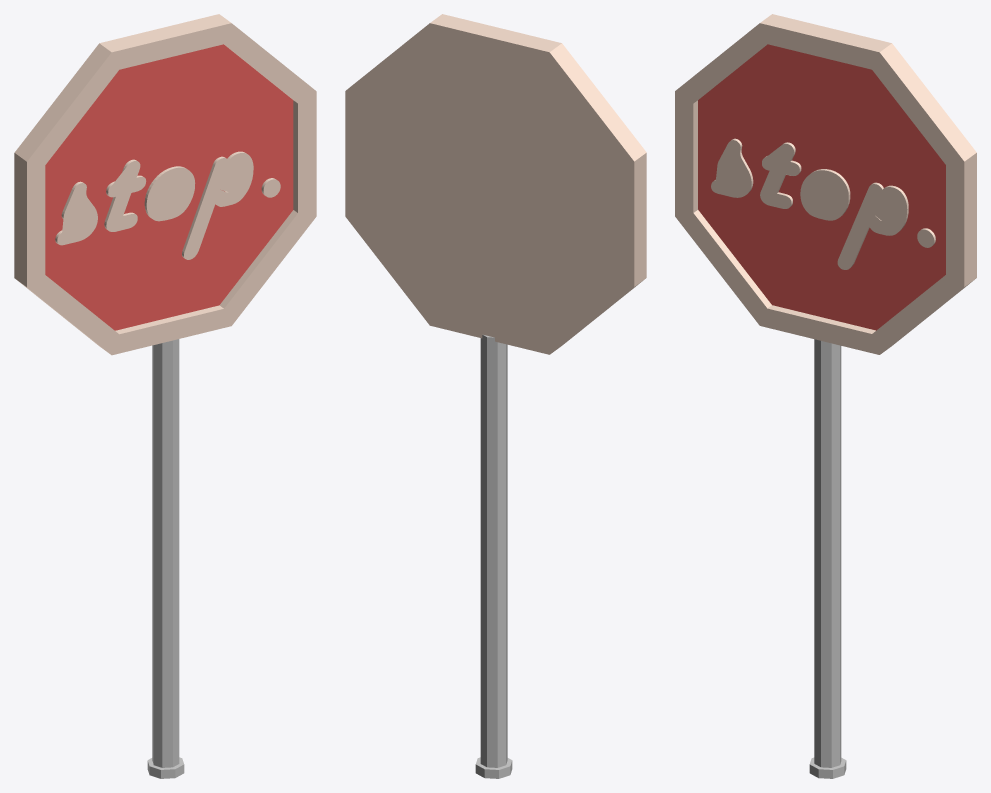
File: stop.fbx
3 views of the same model, side by side, from view 1: azimuth 30°, elevation 25°; view 2: azimuth 150°, elevation 25°; view 3: azimuth 330°, elevation 25° (orthographic).
Parts seen in each view (by area): view 1: stop_sign; view 2: stop_sign; view 3: stop_sign.
Part boxes in pixels (x1,y1,x2,y2): stop_sign: (14, 14, 316, 778); stop_sign: (345, 14, 646, 778); stop_sign: (675, 14, 976, 778).
Size of the model in its own units: 80.64 by 197 by 9.14.
